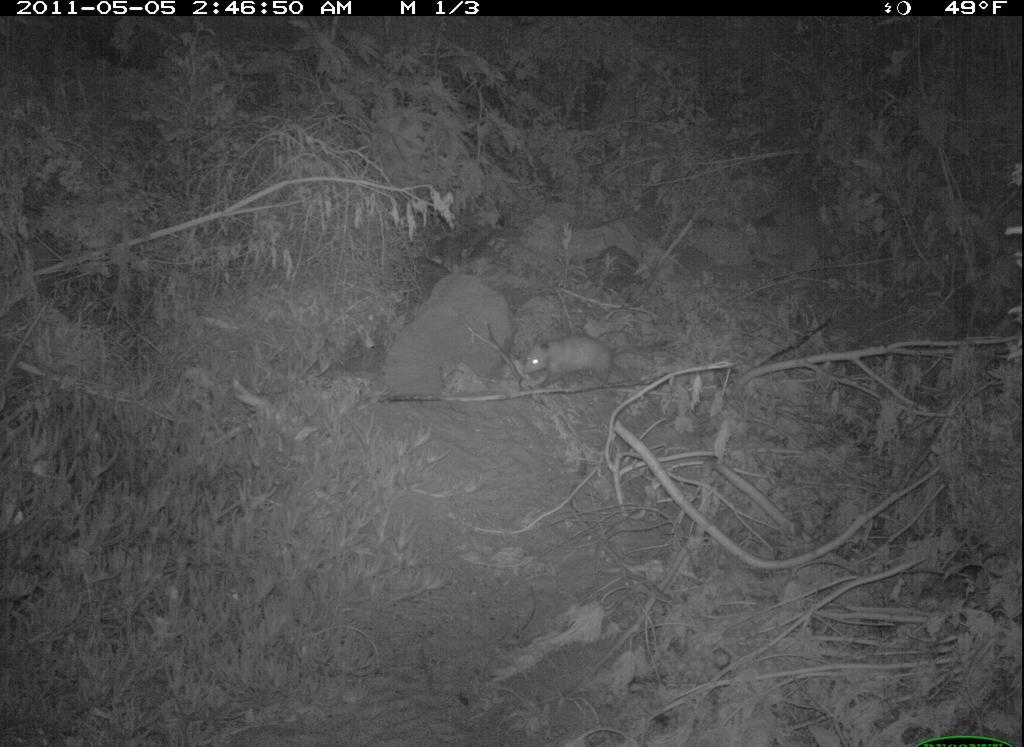opossum: (523, 335, 665, 395)
